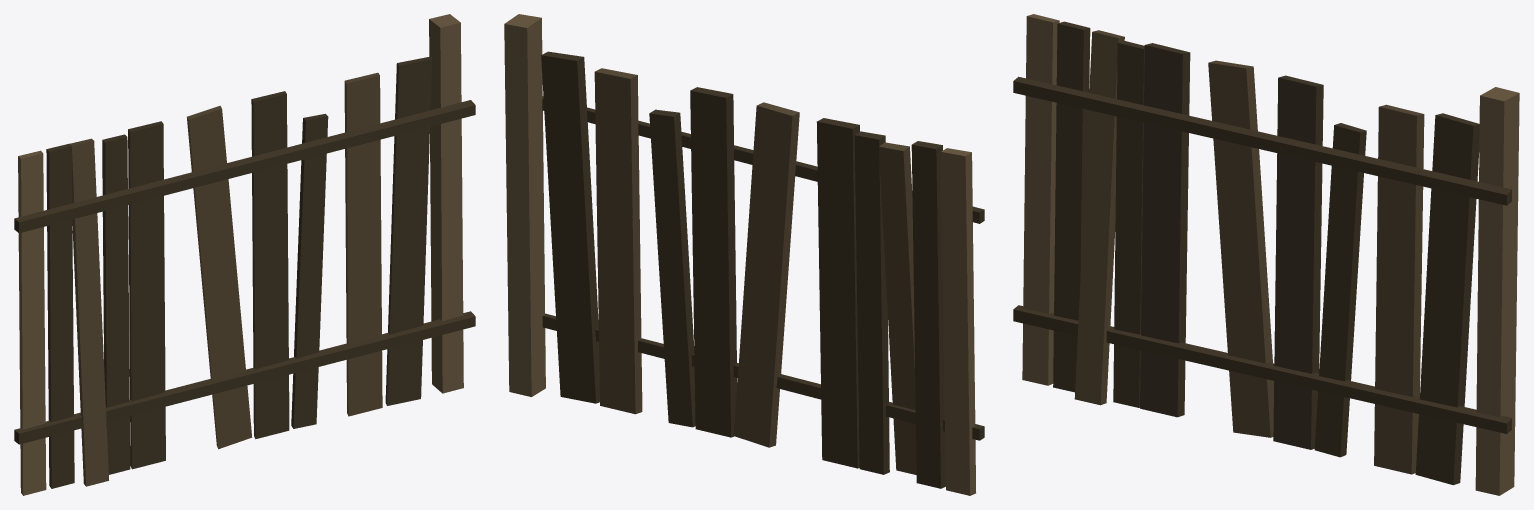
File: EA03_Fence_Plank_02b.glb
The picture shows the model from 3 angles, left to right: view 1: azimuth 30°, elevation 25°; view 2: azimuth 150°, elevation 25°; view 3: azimuth 330°, elevation 25°; orthographic projection. The views are drawn at different scales.
Parts seen in each view (by area): view 1: EA03_Fence_Plank_02b; view 2: EA03_Fence_Plank_02b; view 3: EA03_Fence_Plank_02b.
Boxes of the visible parts, x1,y1,x2,y2 form: EA03_Fence_Plank_02b: [14, 14, 475, 495]; EA03_Fence_Plank_02b: [504, 14, 984, 495]; EA03_Fence_Plank_02b: [1013, 14, 1519, 495].
Size of the model in its own units: 4 by 3.05 by 0.3624.
1 material, 1 textured.
